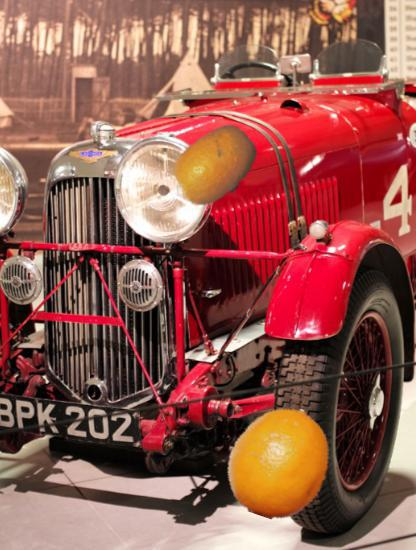Kumquats: (170, 120, 260, 210)
Lemon: (223, 405, 337, 519)
